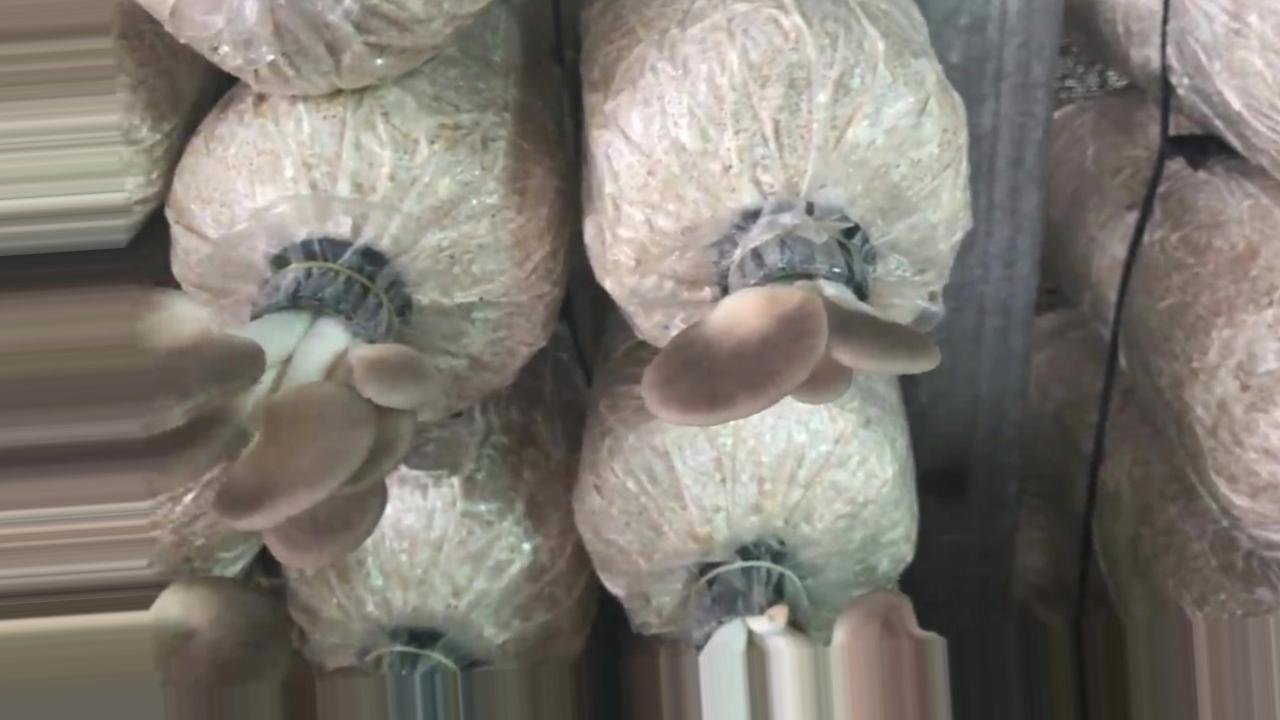nam: (1, 271, 432, 574), (649, 220, 938, 425)
